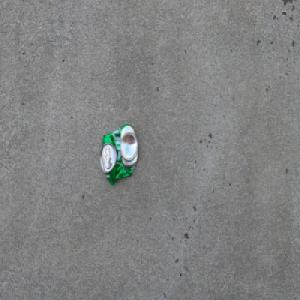SodaCan: (99, 123, 138, 186)
